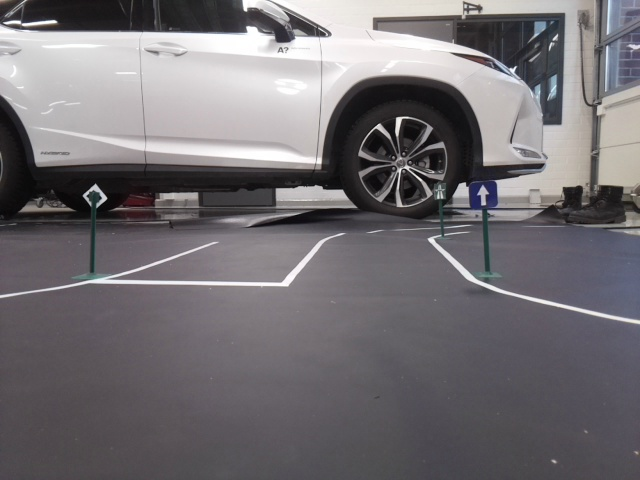HighwayEntrance: (433, 182, 446, 200)
OneWay: (468, 181, 497, 210)
